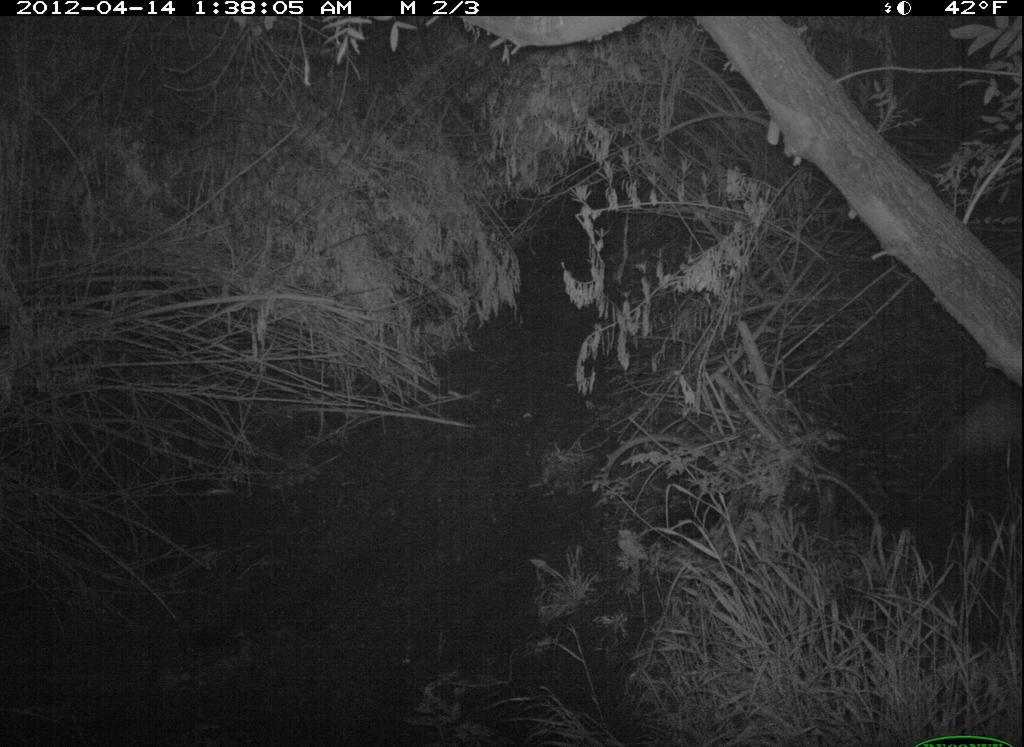opossum: (905, 385, 1023, 511)
